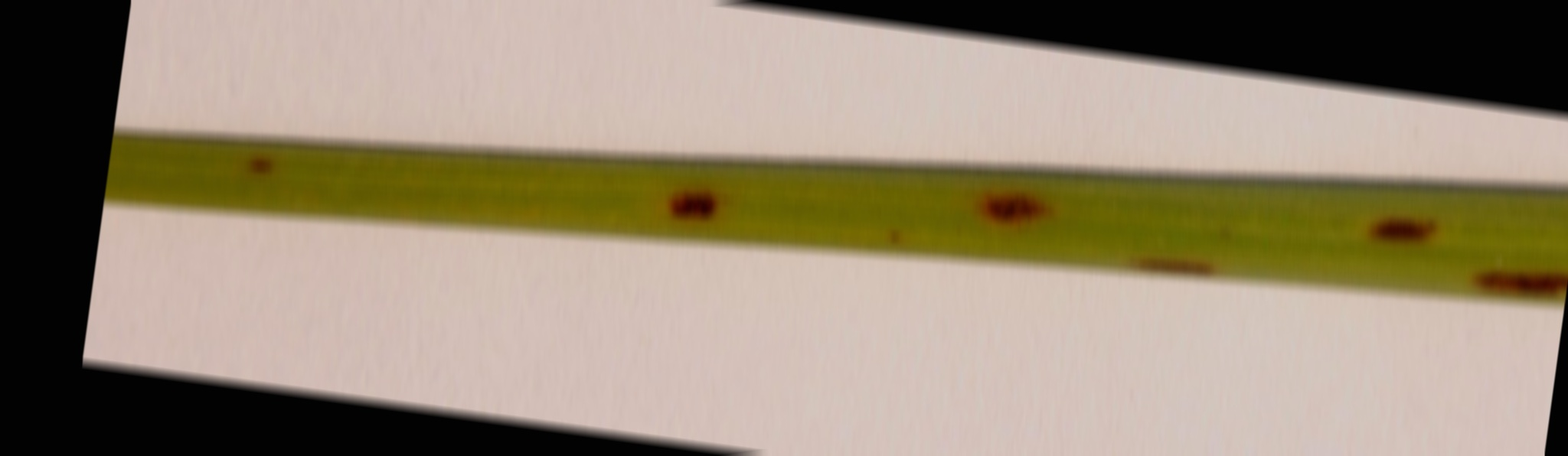Bacterial_Leaf_Blight: (981, 169, 1061, 229), (661, 178, 735, 242), (1140, 241, 1237, 286), (1359, 209, 1466, 248), (1471, 265, 1568, 305), (239, 134, 284, 179)
